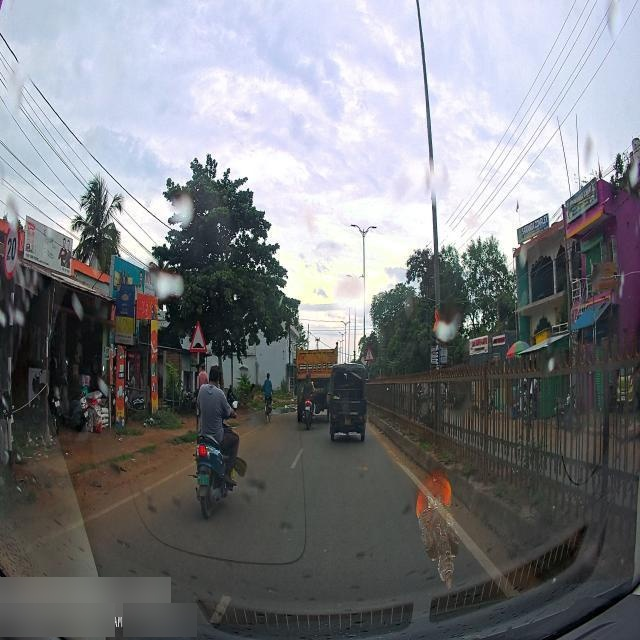pothole: (271, 399, 296, 414)
